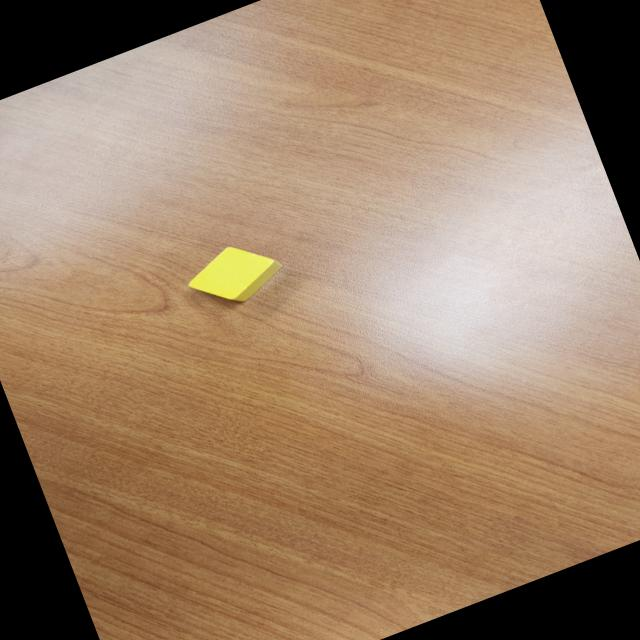yellow: (180, 230, 294, 319)
